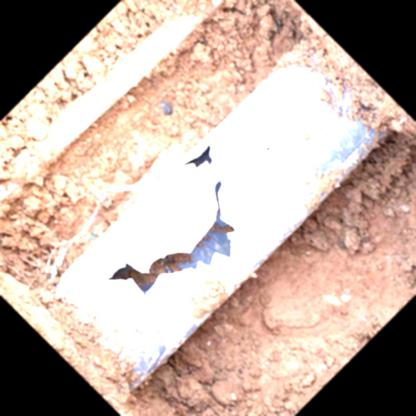burst: (112, 172, 248, 310), (175, 142, 214, 171)
